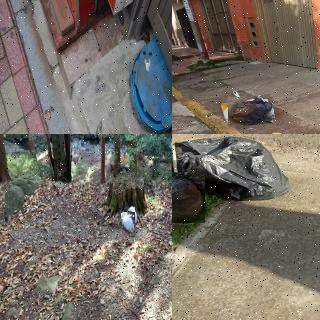Garbage: (172, 137, 295, 201), (172, 170, 206, 226), (227, 95, 274, 126), (122, 212, 136, 236), (127, 205, 139, 225)
